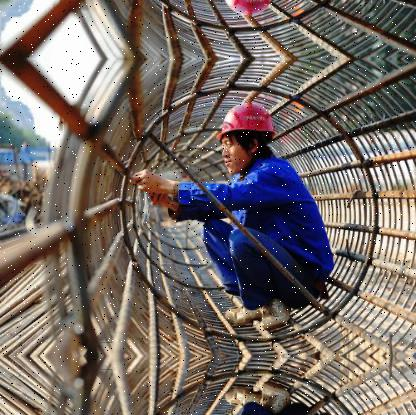helmet: (209, 97, 281, 178), (209, 0, 282, 20)
